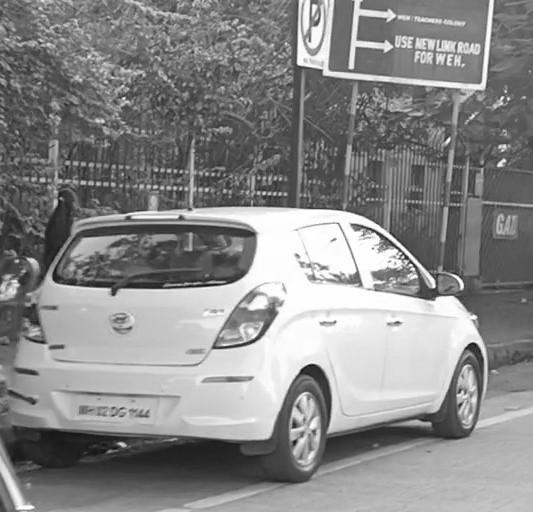number_plate: (72, 397, 170, 424)
